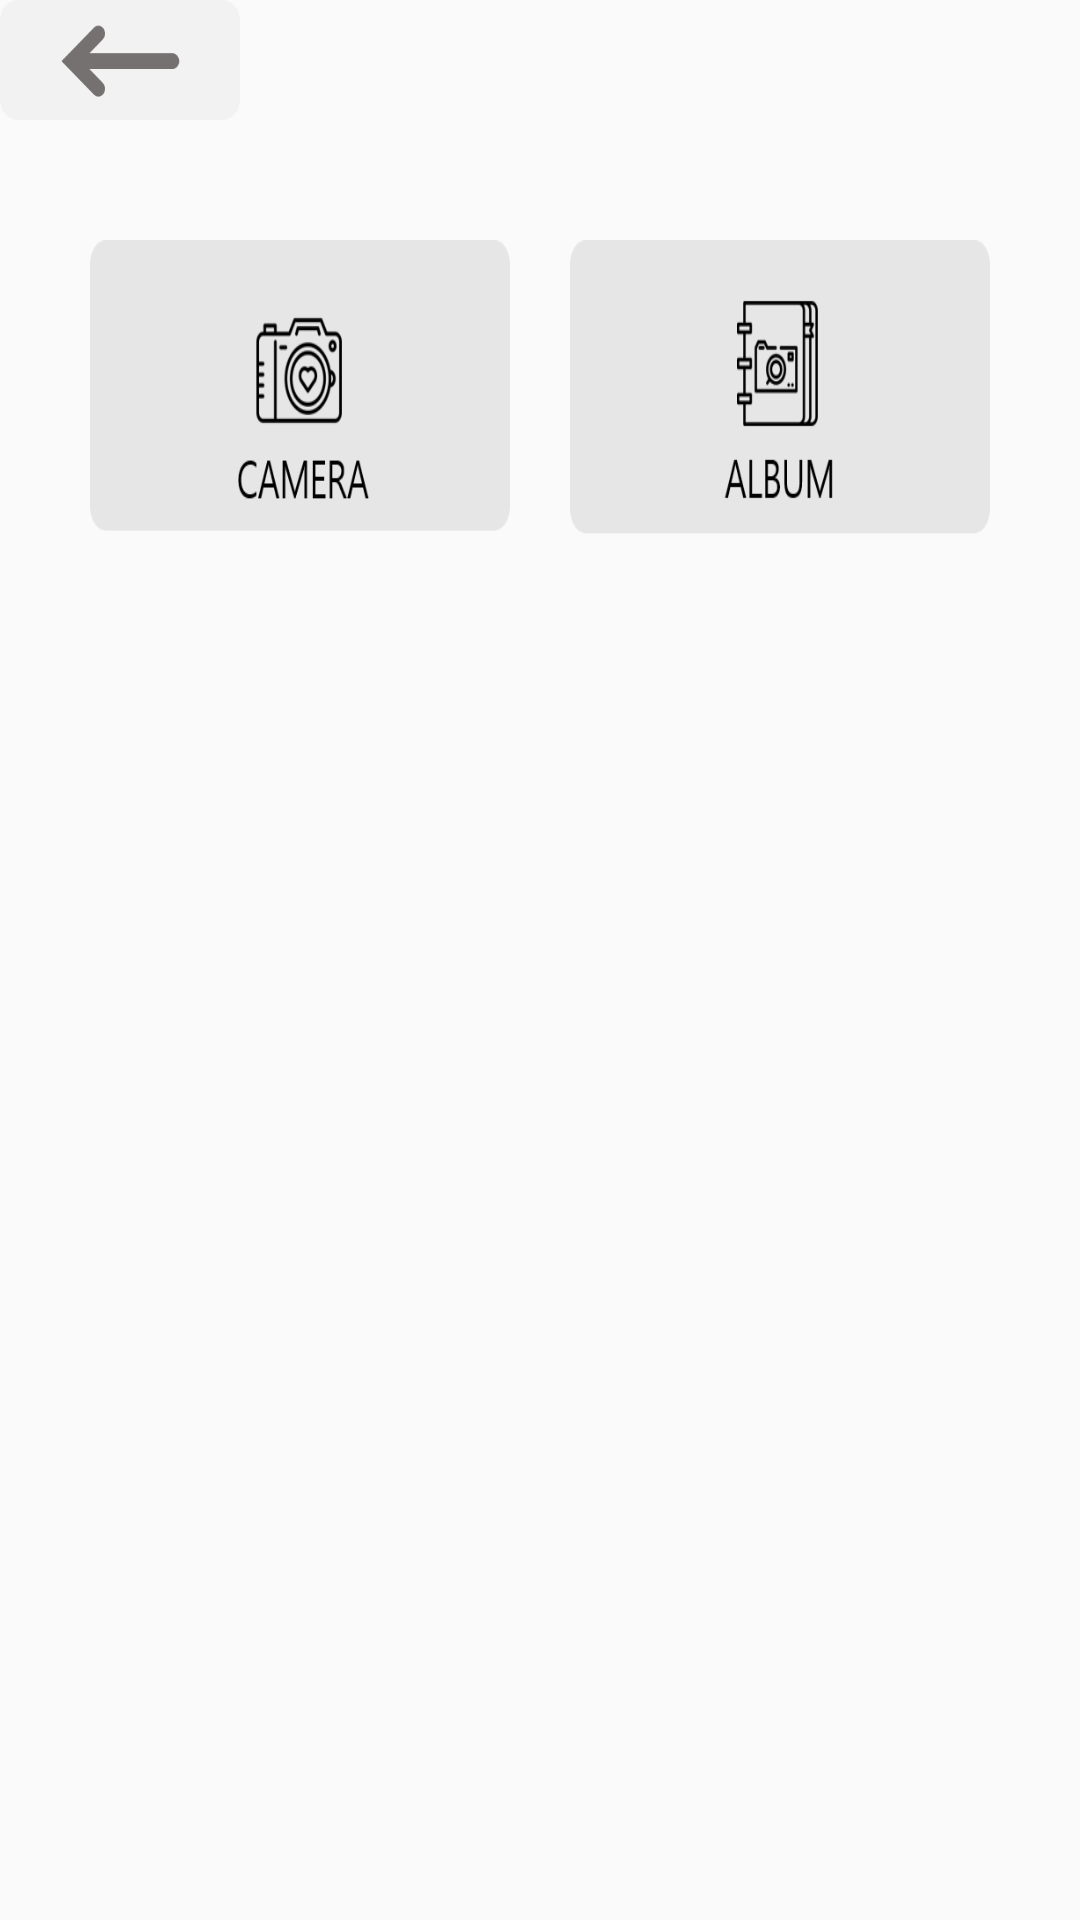

Where to tap for icons on this 1080px×1920px app screen, as (x,y):
back: (121,61)
